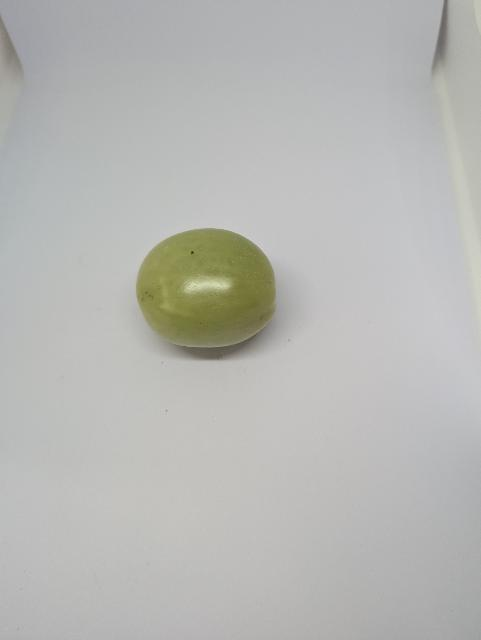green: (129, 226, 298, 353)
